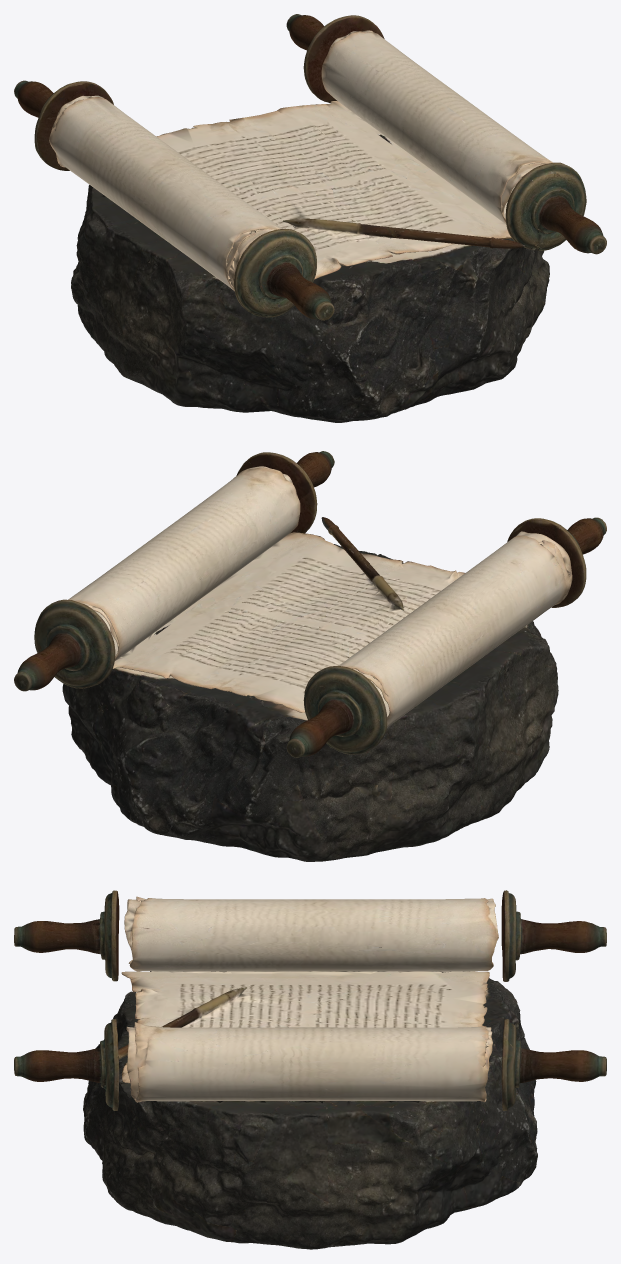
Rendered from scroll.glb.
The picture shows the model from 3 angles, top to bottom: view 1: azimuth 30°, elevation 25°; view 2: azimuth 150°, elevation 25°; view 3: azimuth 270°, elevation 25°; orthographic projection. The views are drawn at different scales.
Size of the model in its own units: 1.44 by 0.7169 by 1.9.
Materials: 1 (1 with a texture image).
